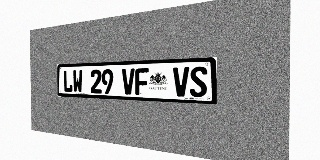2: (90, 69, 101, 93)
9: (102, 69, 113, 94)
F: (135, 68, 149, 95)
L: (63, 70, 73, 92)
S: (190, 66, 207, 97)
V: (173, 67, 189, 97), (122, 68, 135, 95)
W: (73, 70, 83, 93)
